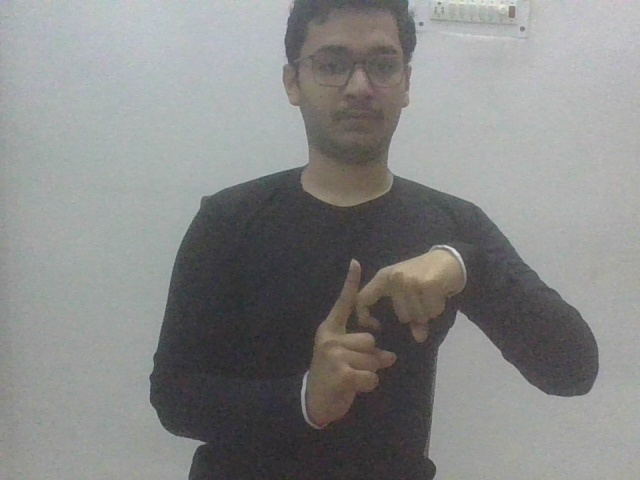K: (298, 241, 469, 432)
